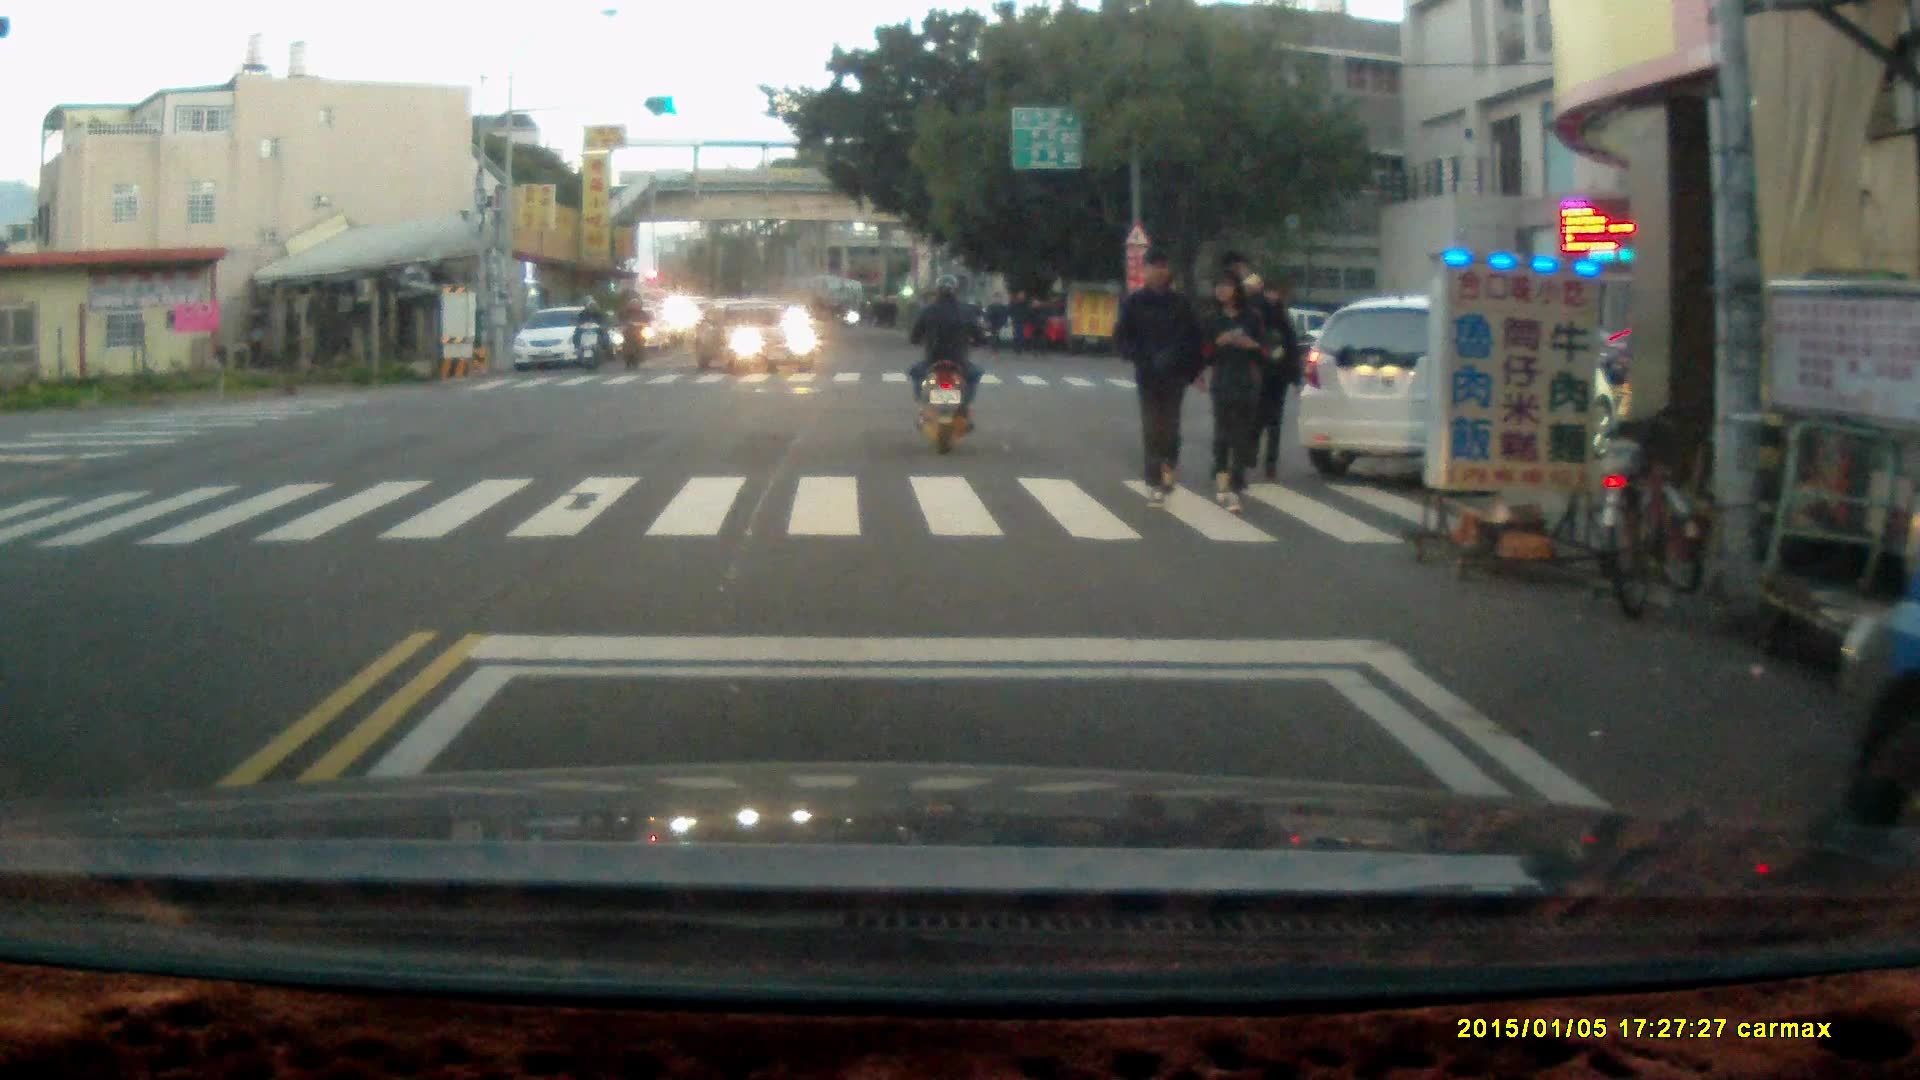pedestrian: (1110, 243, 1205, 506), (1200, 268, 1272, 517), (1007, 284, 1033, 359), (1023, 293, 1050, 360), (986, 288, 1009, 358)
rider: (909, 268, 981, 456), (620, 290, 654, 369), (575, 292, 607, 370)
vehicle: (1307, 303, 1629, 484), (1823, 597, 1920, 901), (690, 297, 826, 375), (515, 308, 609, 372)
